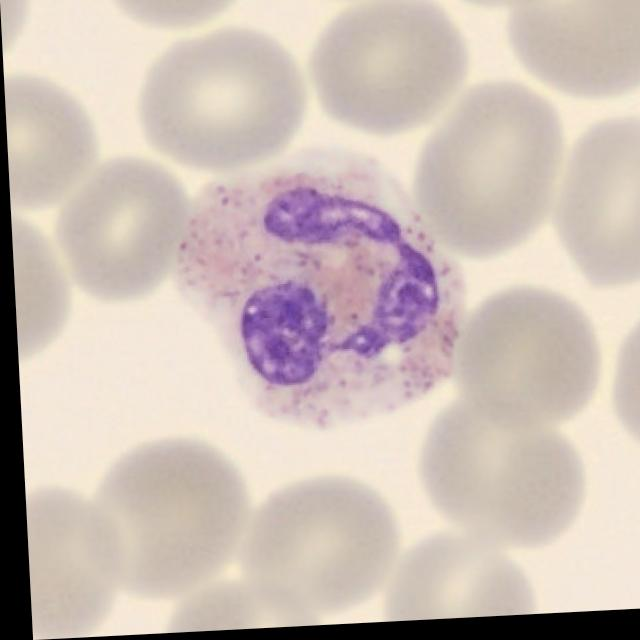Neutrofilo segmentado: (171, 150, 465, 433)
